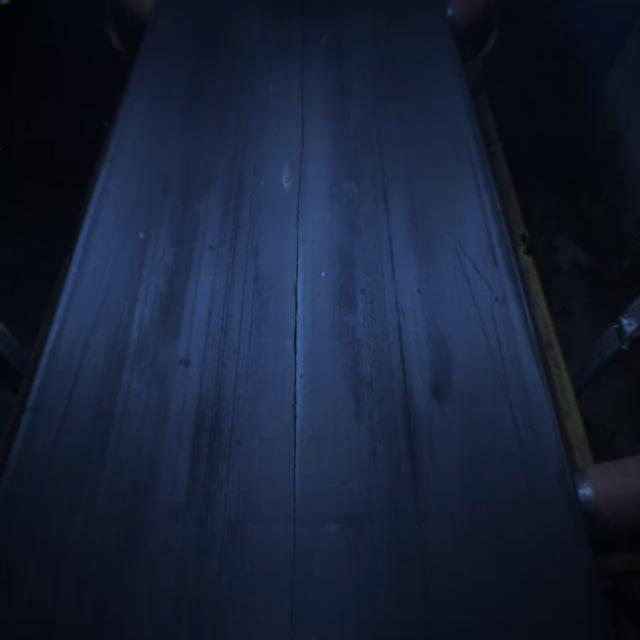Tear: (282, 44, 312, 546)
